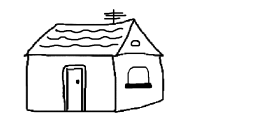door: (59, 62, 89, 116)
open_window: (123, 62, 155, 92)
roof: (24, 18, 163, 59)
wall: (23, 52, 118, 115)
